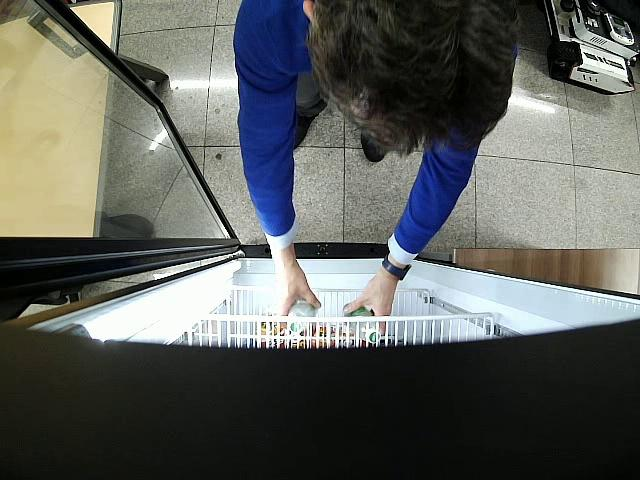00_hand: (272, 256, 322, 320), (343, 278, 399, 332)
18_trevi: (342, 303, 380, 343), (288, 301, 315, 335)
